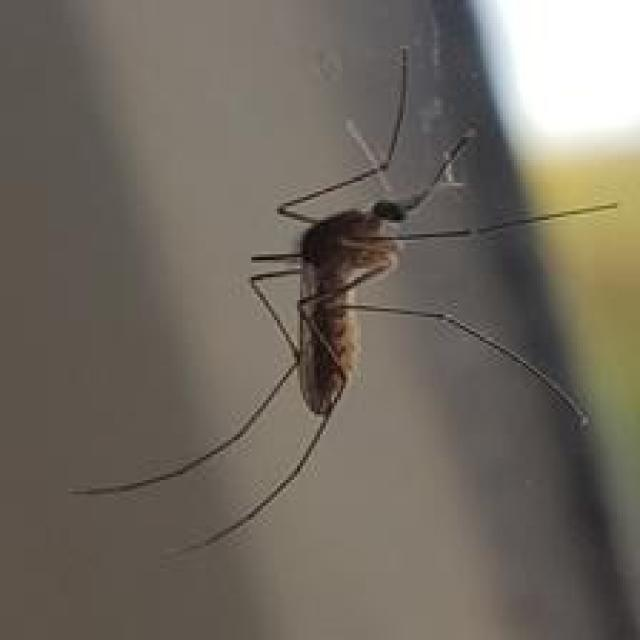Culex: (67, 43, 619, 560)
